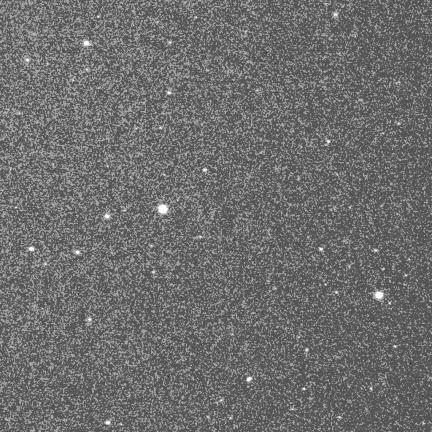blob: (158, 205, 167, 213), (375, 292, 383, 299), (29, 247, 35, 252), (333, 12, 338, 17), (84, 41, 89, 46), (247, 377, 252, 382), (105, 214, 110, 218), (302, 387, 307, 391), (397, 122, 401, 126), (167, 91, 171, 95), (203, 168, 207, 172), (76, 250, 80, 254), (319, 247, 323, 251), (97, 15, 101, 19), (335, 291, 339, 295), (106, 421, 110, 425), (87, 318, 92, 321), (374, 249, 378, 252), (306, 348, 309, 352), (168, 41, 172, 44), (44, 263, 48, 266), (159, 127, 163, 130), (194, 16, 198, 19), (26, 59, 29, 62), (152, 270, 155, 273), (327, 140, 330, 143)
